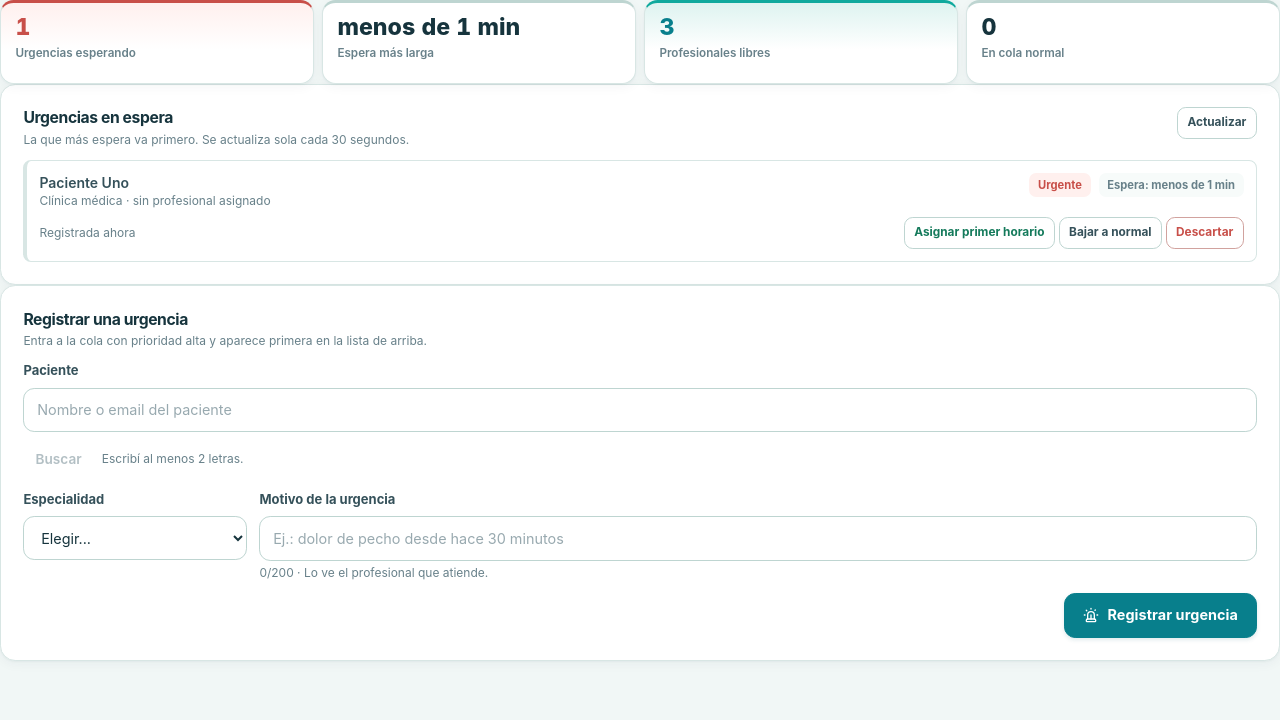
Test: SeccionUrgencias — acciones › si el servidor rechaza el turno, muestra su mensaje
Click the button "Asignar primer horario" at (979, 233), box x1=904 y1=217 x2=1055 y2=249
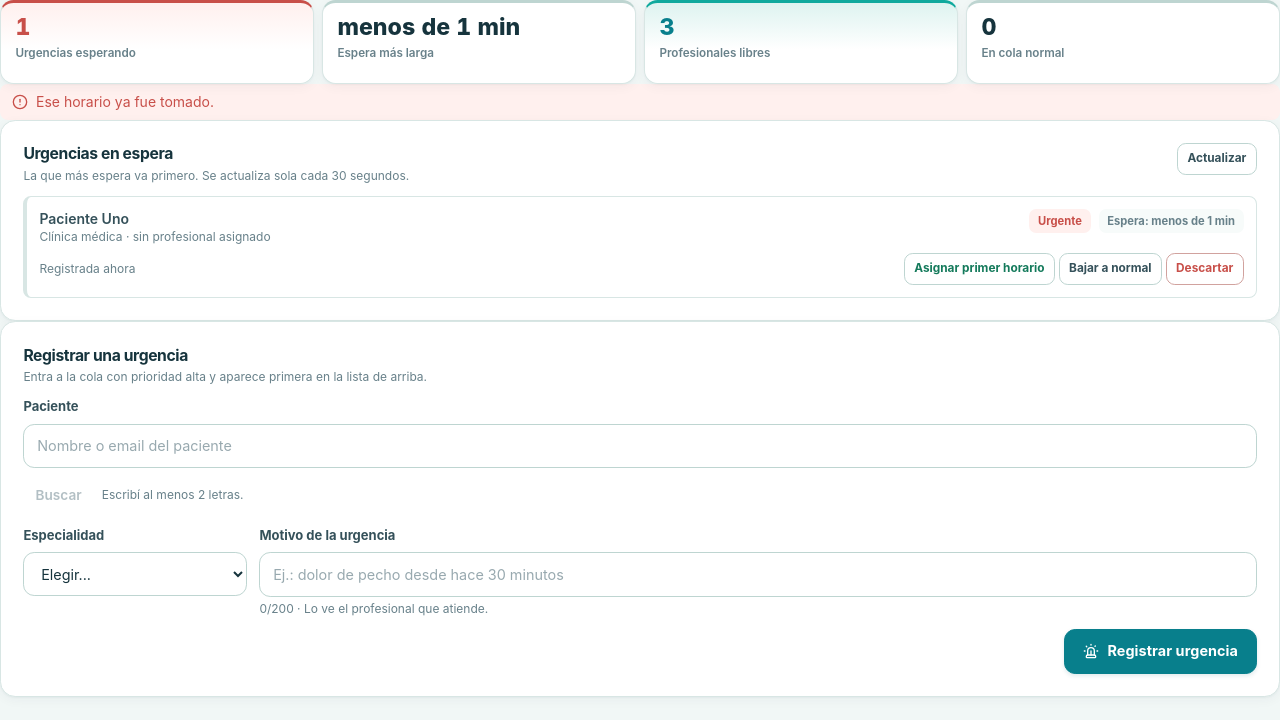
Check: the text "Ese horario ya fue tomado." is shown, box x1=36 y1=92 x2=214 y2=112
